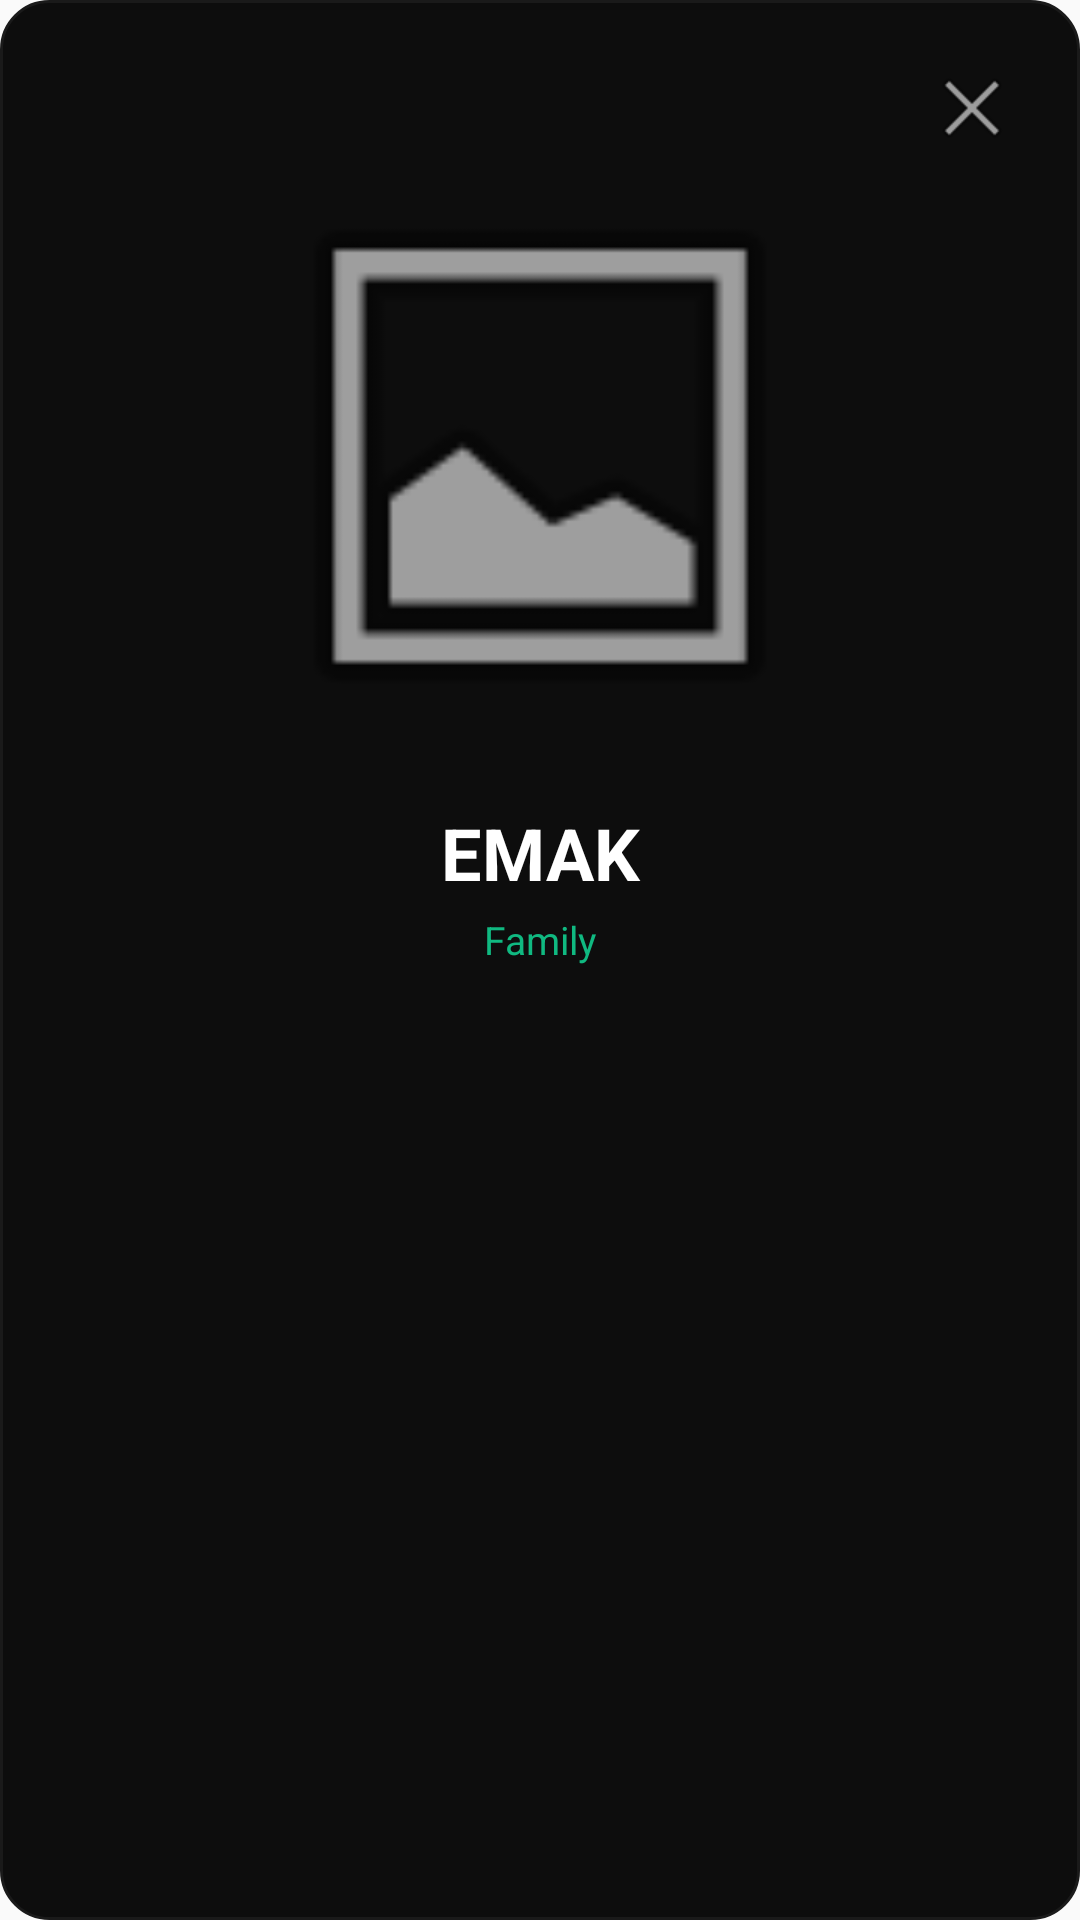

Screen size 1080 × 1920. Icon name, then its center in pixels as (x=x, y=y):
close clear cancel: (x=972, y=108)
